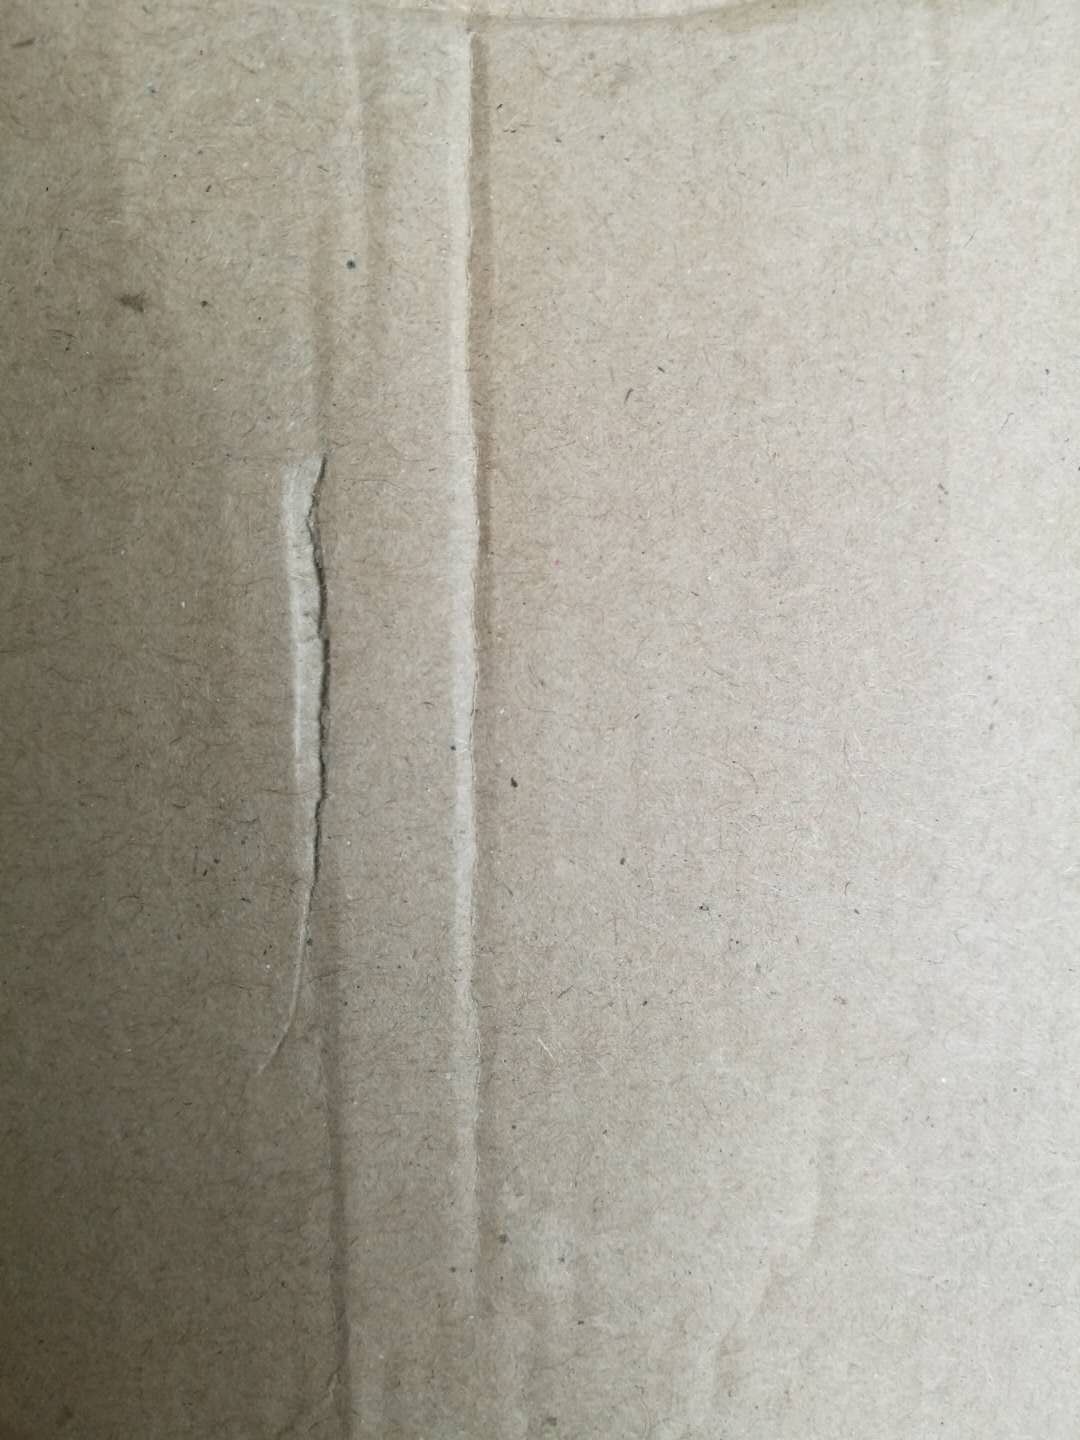defect: (428, 1, 534, 1350), (237, 420, 383, 1084)
